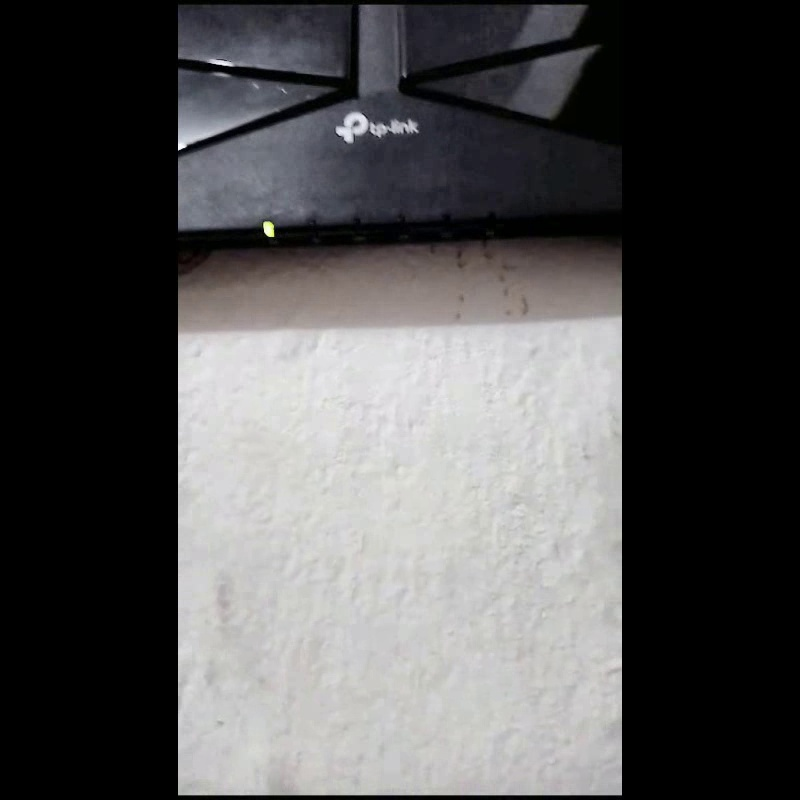off: (308, 217, 318, 237), (396, 212, 406, 232), (486, 210, 496, 229), (441, 212, 451, 230), (351, 214, 361, 232)
on_green: (263, 220, 274, 237)
